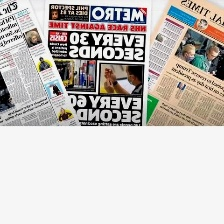news_paper: (44, 0, 145, 127), (0, 0, 82, 128), (145, 0, 224, 128)
